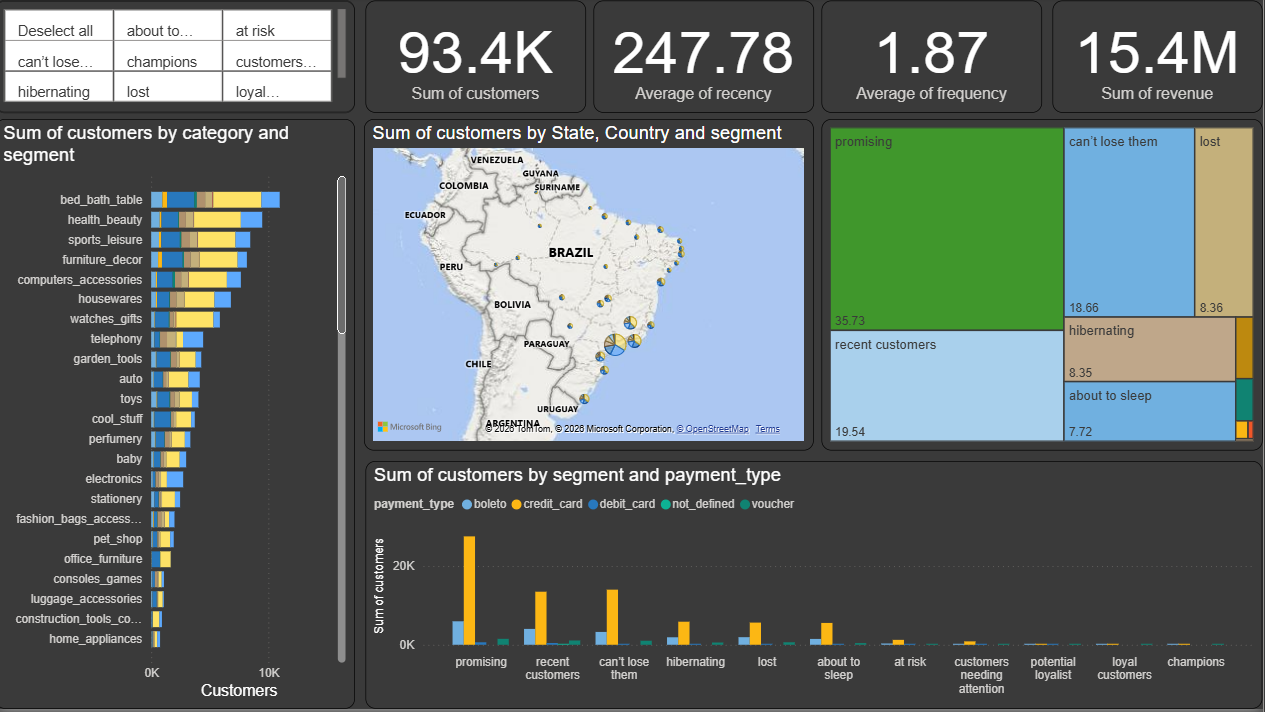

The dashboard page shown, as its layout file describes it:
{"tool":"powerbi","page":{"name":"Page 1","canvas":[1280,720],"ordinal":0},"visuals":[{"type":"treemap","fields":{"Group":["Query1.segment"],"Values":["Sum(Query1.percentage_customers)"]},"box":[834.3,124.2,445.2,334.6],"z":0},{"type":"card","fields":{"Values":["Sum(Query2.total_revenue)"]},"box":[1067.5,4.5,212,113.6],"z":1000},{"type":"card","fields":{"Values":["Avg(Query2.avg_frequency)"]},"box":[834.3,4.5,222.6,113.6],"z":2000},{"type":"card","title":"vfcb","fields":{"Values":["Avg(Query2.avg_recency)"]},"box":[604.2,4.5,222.6,113.6],"z":3000},{"type":"advancedSlicerVisual","fields":{"Values":["Query2.segment"]},"box":[0,4.5,363.4,113.6],"z":4000},{"type":"barChart","title":"Sum of customers by category and segment","fields":{"Category":["Query4.product_category_name_english"],"Series":["Query4.segment"],"Y":["Sum(Query4.num_customers)"]},"box":[0,124.2,363.4,595.1],"z":5000},{"type":"map","fields":{"Category":["Query3.State, Country"],"Series":["Query3.segment"],"Size":["Sum(Query3.num_customers)"]},"box":[372.5,124.2,454.3,334.6],"z":6000},{"type":"card","fields":{"Values":["Sum(Query1.num_customers)"]},"box":[374,4.5,222.6,113.6],"z":7000},{"type":"clusteredColumnChart","fields":{"Category":["Query5.segment"],"Series":["Query5.payment_type"],"Y":["Sum(Query5.customers)"]},"box":[374,469.4,905.5,249.8],"z":8000}]}

Visuals, with their boxes in screenshot pixels (x1, y1, x2, y2), scaled from the page's 1280x720 canvas onto the 1265x712 screenshot:
treemap - Query1.segment x Sum(Query1.percentage_customers): Rect(825, 123, 1264, 454)
card - Sum(Query2.total_revenue): Rect(1055, 4, 1264, 117)
card - Avg(Query2.avg_frequency): Rect(825, 4, 1045, 117)
"vfcb" card: Rect(597, 4, 817, 117)
advancedSlicerVisual - Query2.segment: Rect(0, 4, 359, 117)
"Sum of customers by category and segment" barChart: Rect(0, 123, 359, 711)
map - Query3.State, Country x Query3.segment: Rect(368, 123, 817, 454)
card - Sum(Query1.num_customers): Rect(370, 4, 590, 117)
clusteredColumnChart - Query5.segment x Query5.payment_type: Rect(370, 464, 1264, 711)
